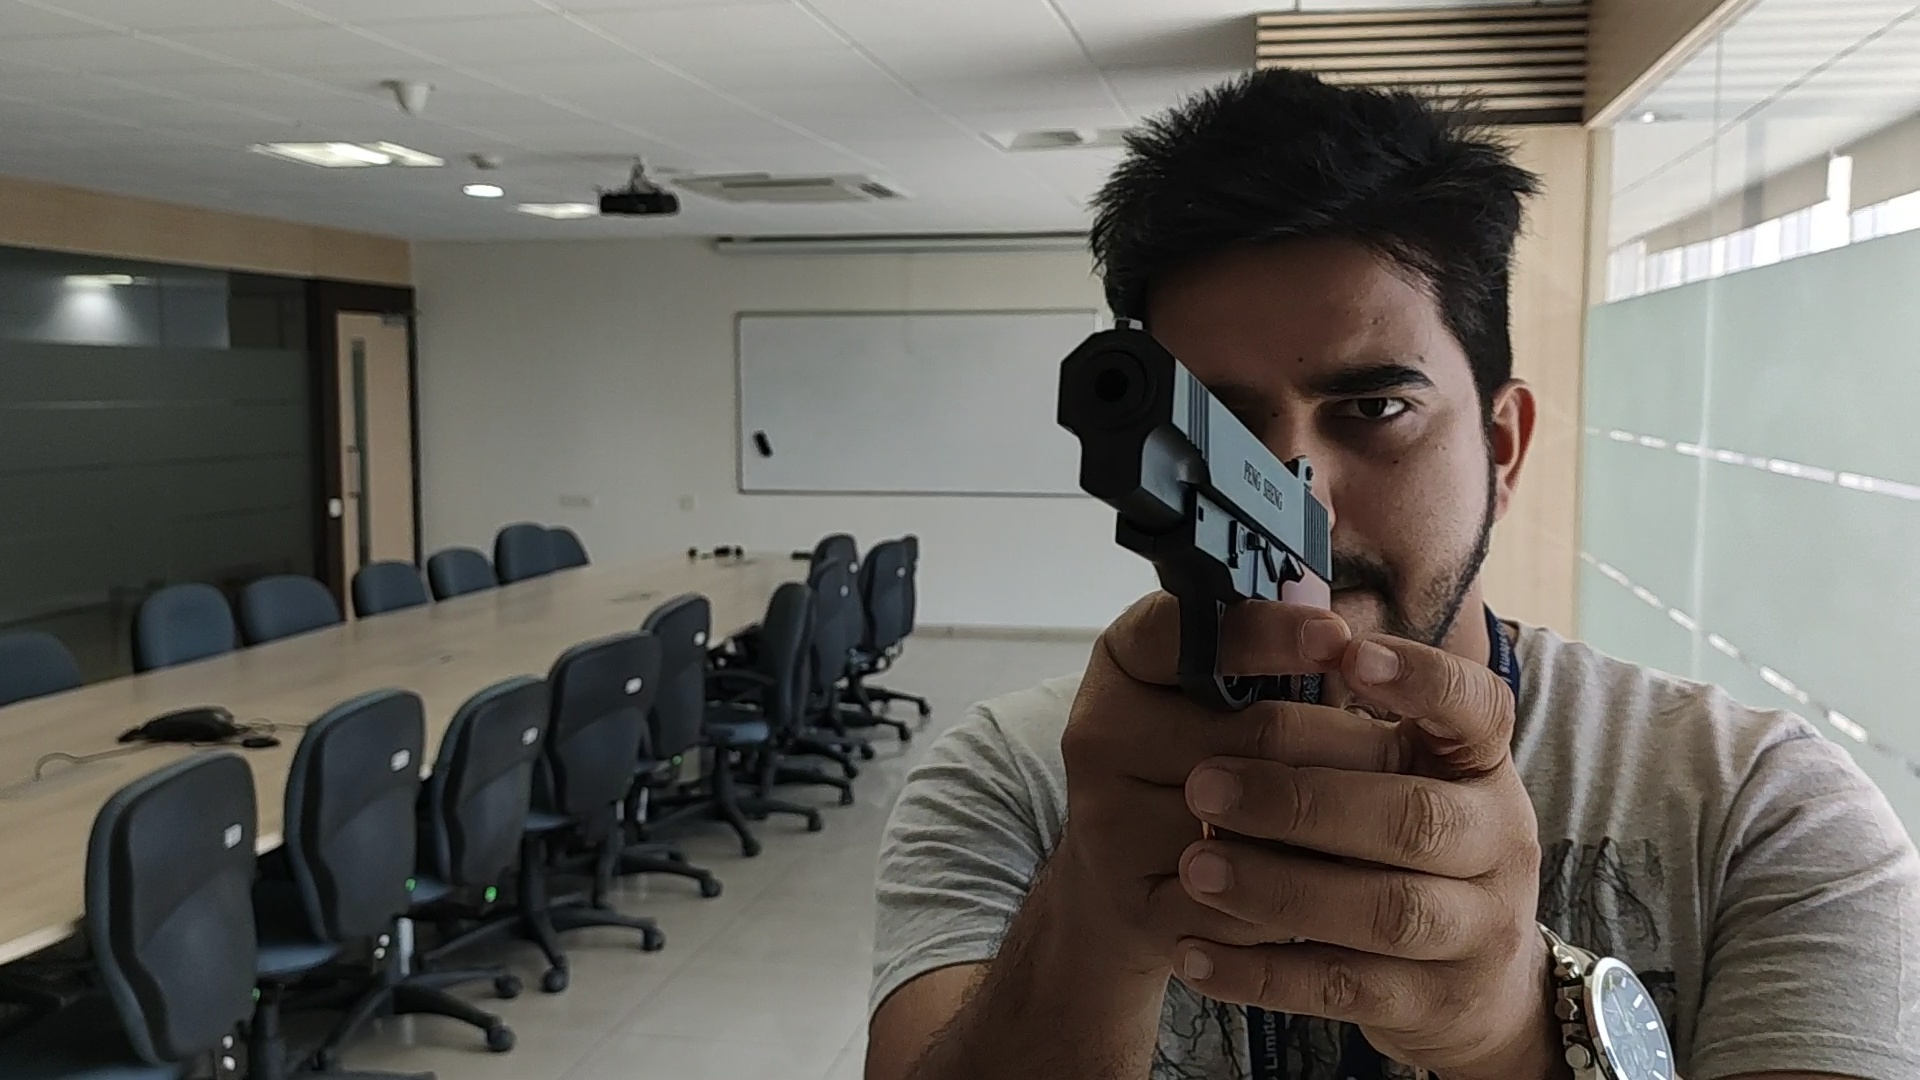gun: (1056, 316, 1332, 597)
